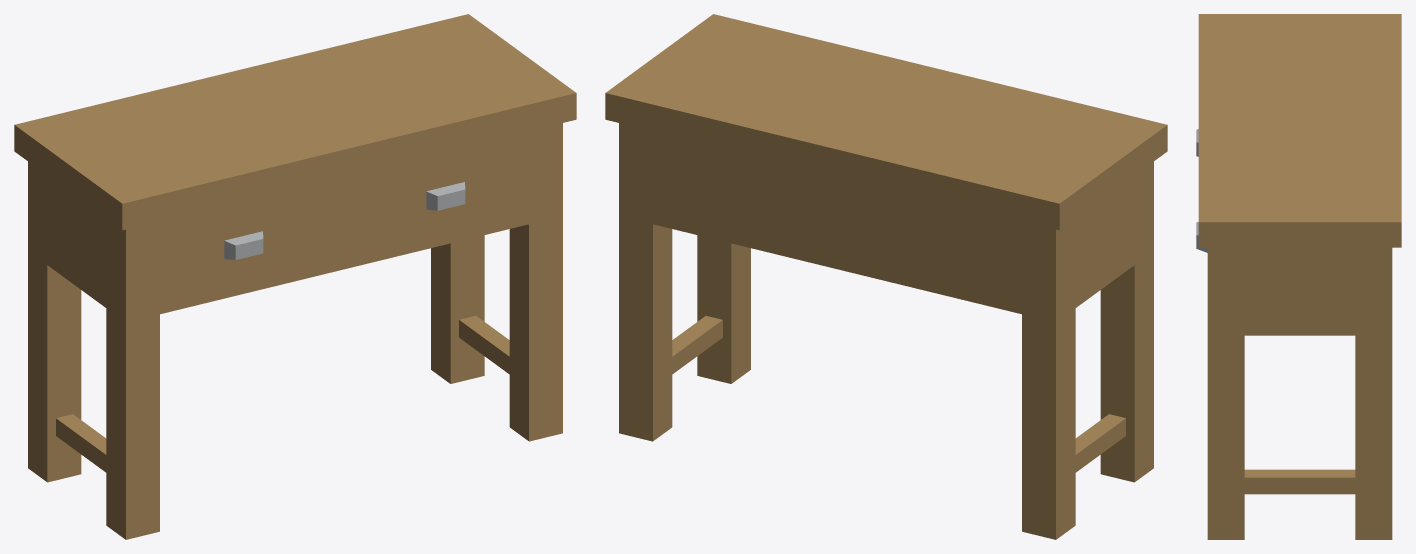
Rendered from sideboard.glb.
3 renders of one model, left to right at view 1: azimuth 30°, elevation 25°; view 2: azimuth 150°, elevation 25°; view 3: azimuth 270°, elevation 25°, orthographic. The views are drawn at different scales.
Parts seen in each view (by area): view 1: sideboard; view 2: sideboard; view 3: sideboard.
Part boxes in pixels (x1,y1,x2,y2): sideboard: (14, 14, 576, 539); sideboard: (605, 14, 1167, 539); sideboard: (1196, 14, 1401, 539).
Size of the model in its own units: 1.07 by 0.7688 by 0.4446.
